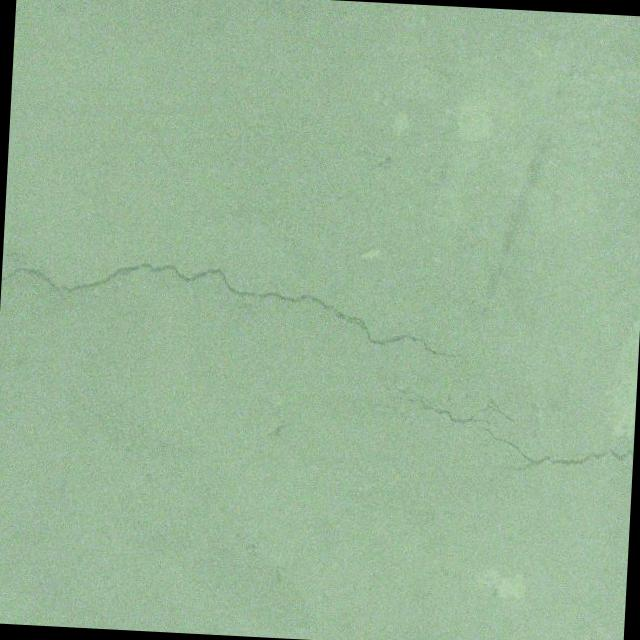crack: (345, 374, 637, 640), (0, 252, 473, 367)
